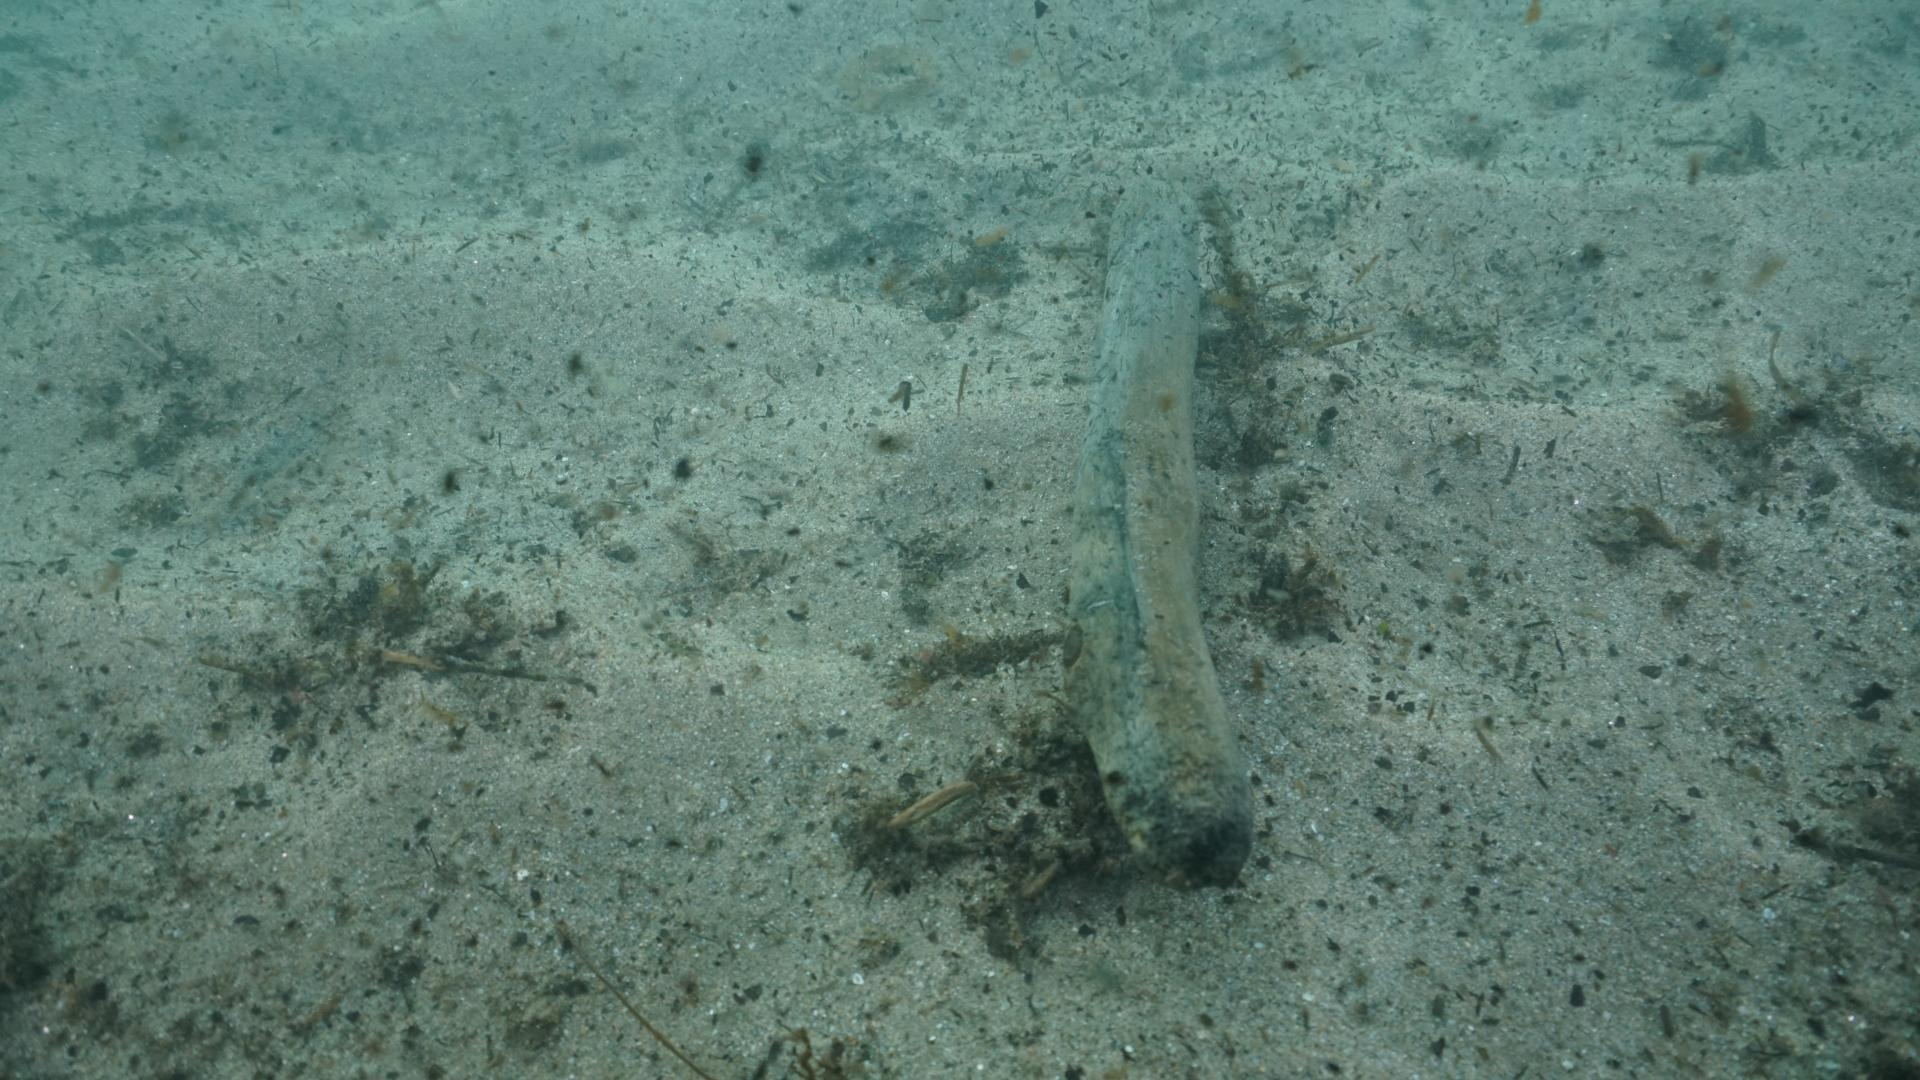wood: (1056, 177, 1259, 895)
